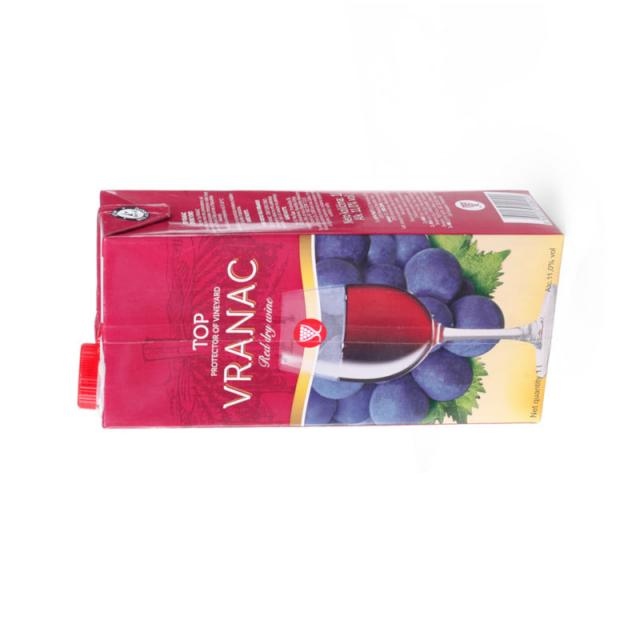non_white_jug: (72, 186, 566, 427)
